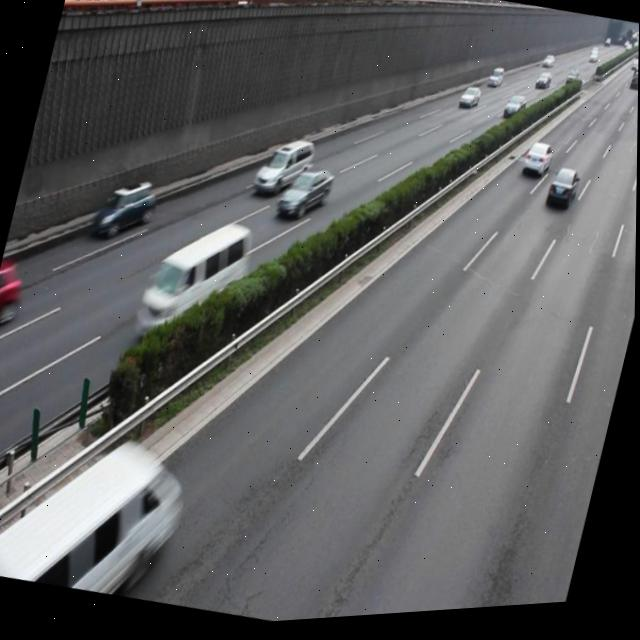car: (89, 172, 159, 248), (275, 164, 335, 228), (544, 171, 580, 219), (518, 145, 555, 188)
truck: (0, 422, 189, 612), (131, 208, 256, 356), (251, 134, 317, 207)
